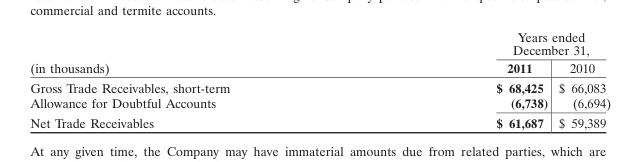table: (29, 29, 610, 130)
table column: (29, 29, 362, 130), (362, 29, 552, 130), (552, 29, 610, 130)
table column header: (29, 29, 610, 77)
table row: (29, 29, 610, 58), (29, 58, 610, 77), (29, 77, 610, 95), (29, 112, 610, 130), (29, 95, 610, 112)
table spanning cell: (29, 29, 362, 77), (362, 29, 610, 58)
